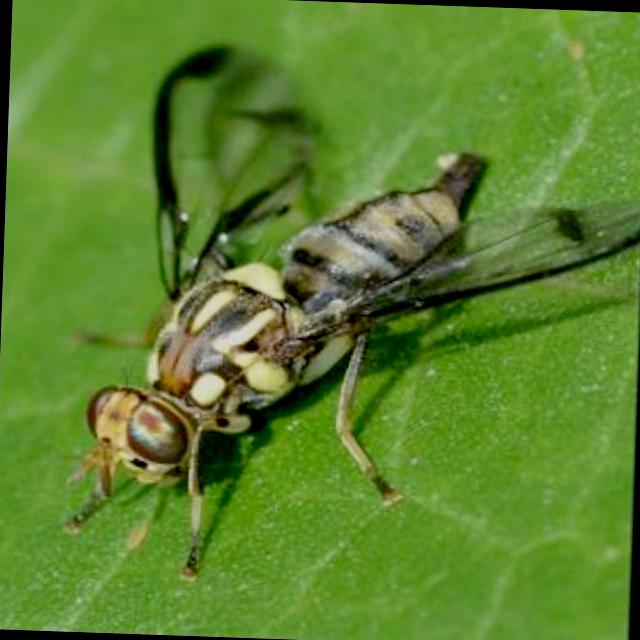melon fly: (45, 6, 640, 589)
